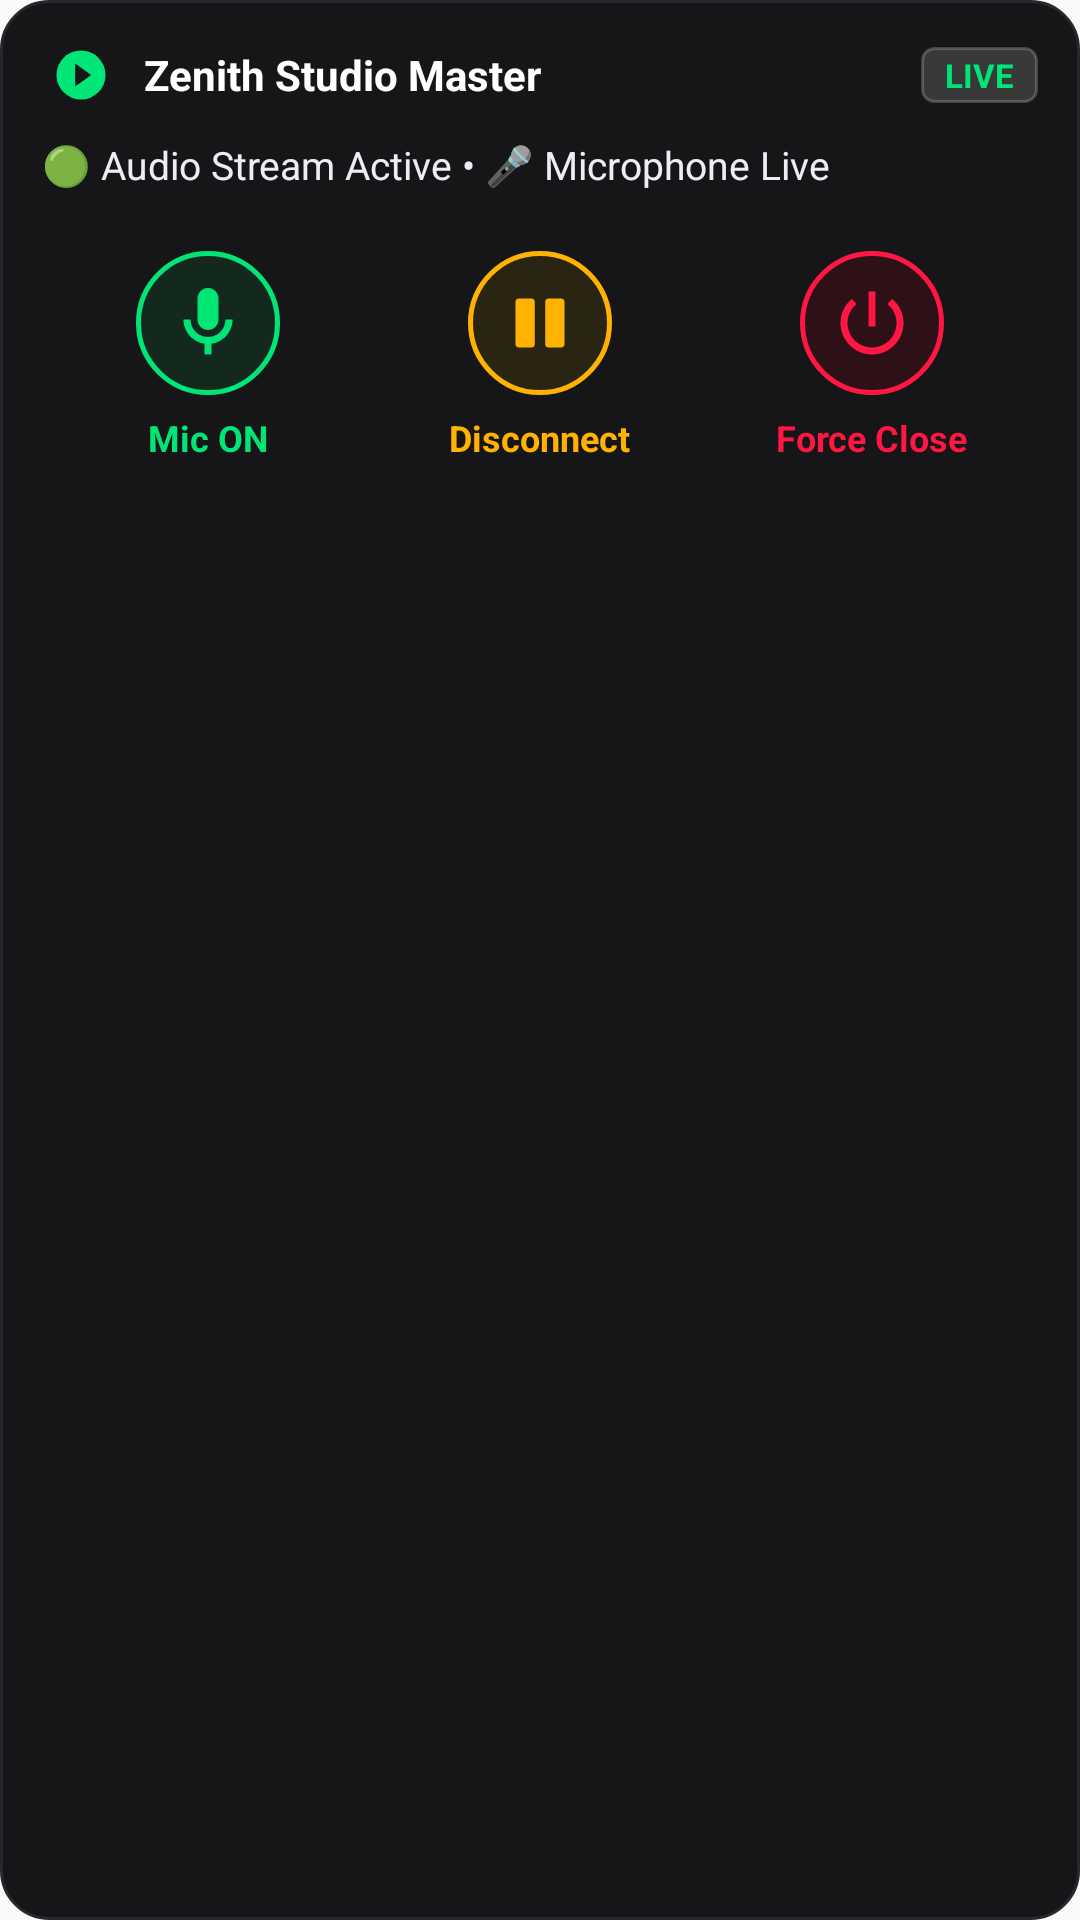

Icons on this 1080px×1920px Android screen, each with the point to tap as [x,y]:
Mic Status: [208,323]
